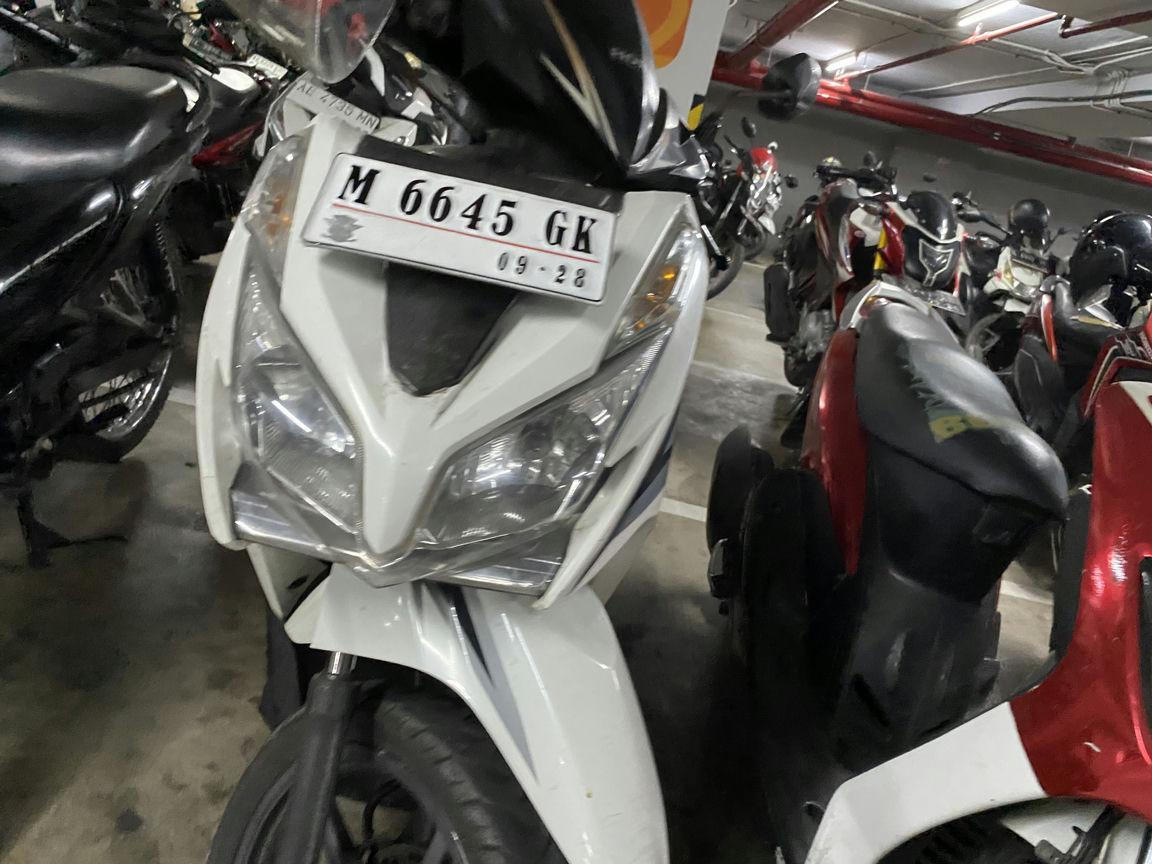plat: (302, 153, 616, 302)
